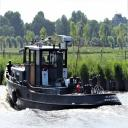tugboat: (5, 33, 124, 114)
